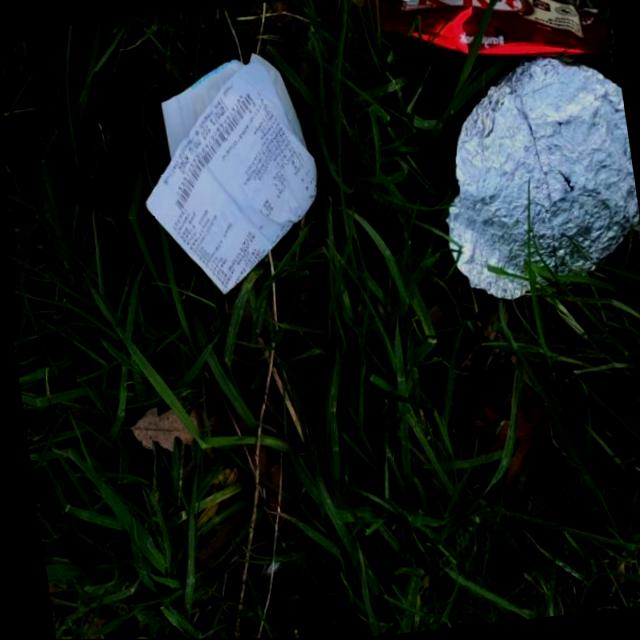Paper: (124, 44, 332, 304)
Plastic: (360, 0, 617, 84)
